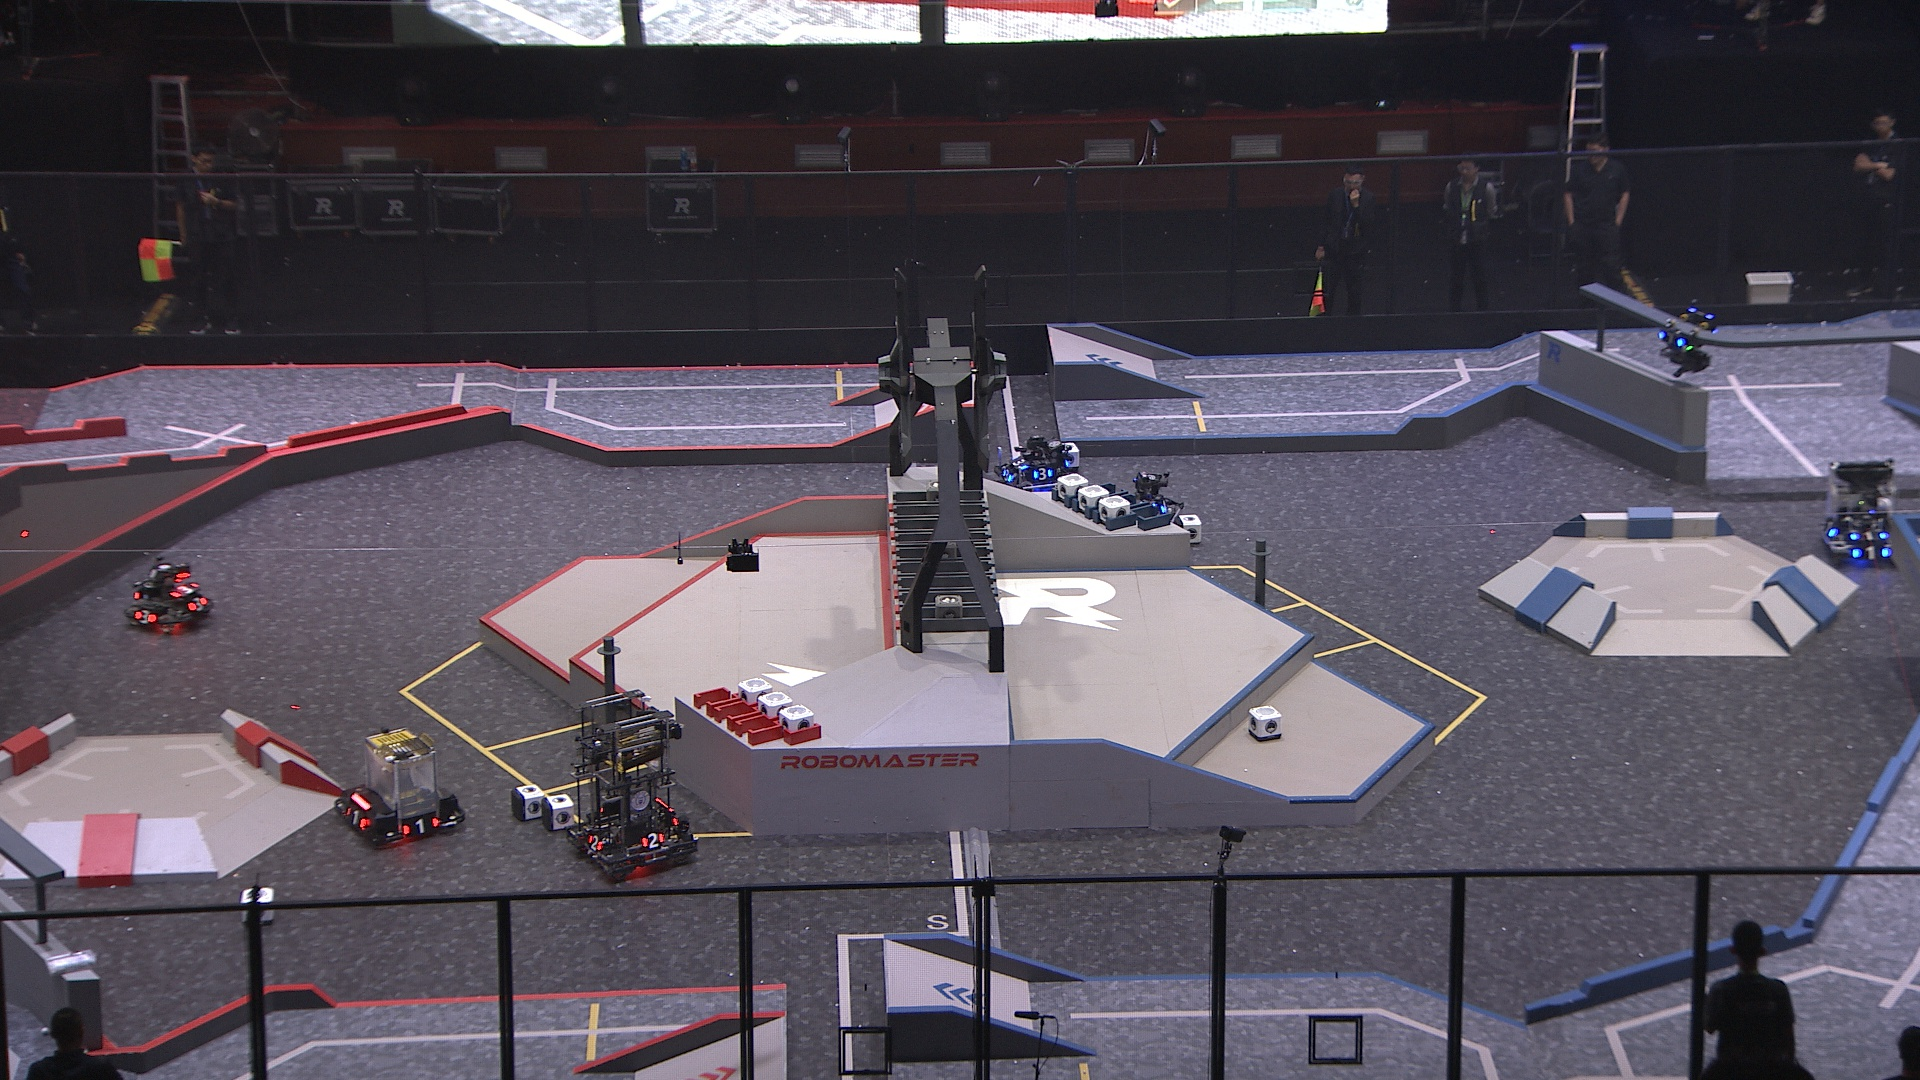armor: (400, 814, 439, 837), (1850, 545, 1892, 564), (167, 579, 200, 600), (640, 828, 667, 853), (1846, 529, 1888, 545), (343, 807, 368, 832), (1656, 330, 1684, 352), (131, 607, 157, 628), (182, 593, 207, 613), (584, 831, 604, 853), (998, 462, 1015, 484), (1033, 465, 1054, 483), (1821, 516, 1837, 538), (1011, 455, 1027, 469)
car: (562, 688, 698, 880), (334, 727, 472, 851), (1815, 452, 1903, 567), (124, 553, 215, 642), (1100, 467, 1187, 555), (992, 433, 1083, 498)
watcher: (1652, 295, 1720, 380)
